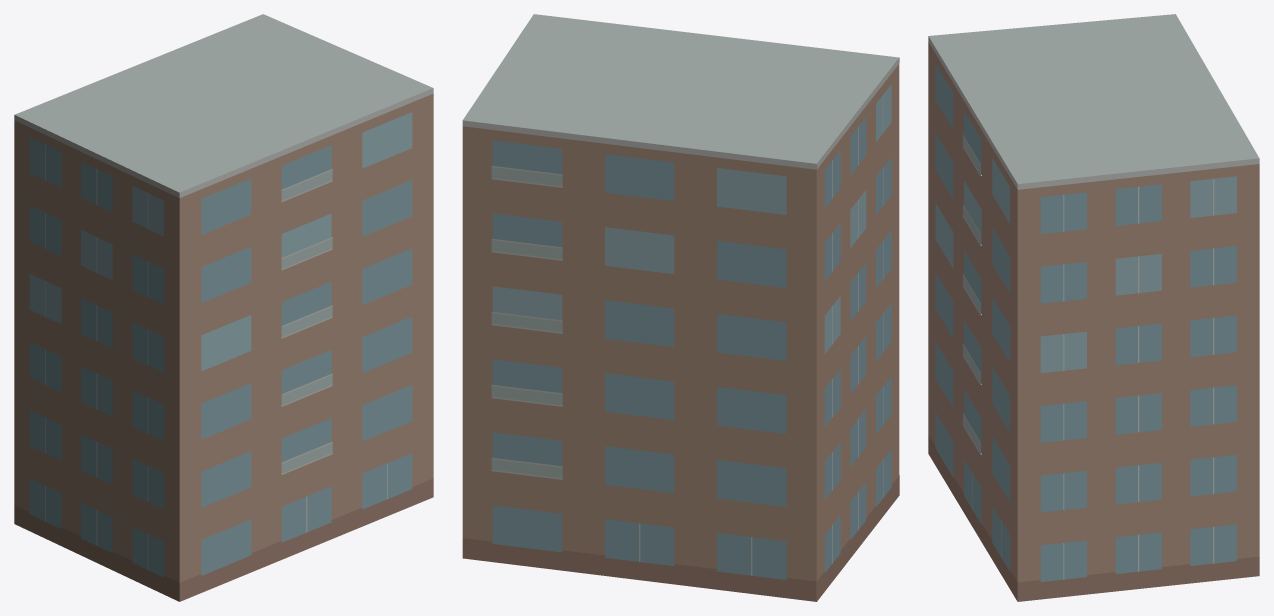
Rendered from survey-upis-32848409.glb.
3 views of the same model, side by side, from view 1: azimuth 30°, elevation 25°; view 2: azimuth 150°, elevation 25°; view 3: azimuth 270°, elevation 25° (orthographic). The views are drawn at different scales.
Visible parts, largest first — view 1: survey-upis-32848409.tmp; view 2: survey-upis-32848409.tmp; view 3: survey-upis-32848409.tmp.
Boxes of the visible parts, bbox=[...] form: survey-upis-32848409.tmp: bbox=[14, 14, 433, 601]; survey-upis-32848409.tmp: bbox=[462, 14, 899, 601]; survey-upis-32848409.tmp: bbox=[928, 14, 1259, 601].
Size of the model in its own units: 16.01 by 18.3 by 13.16.
